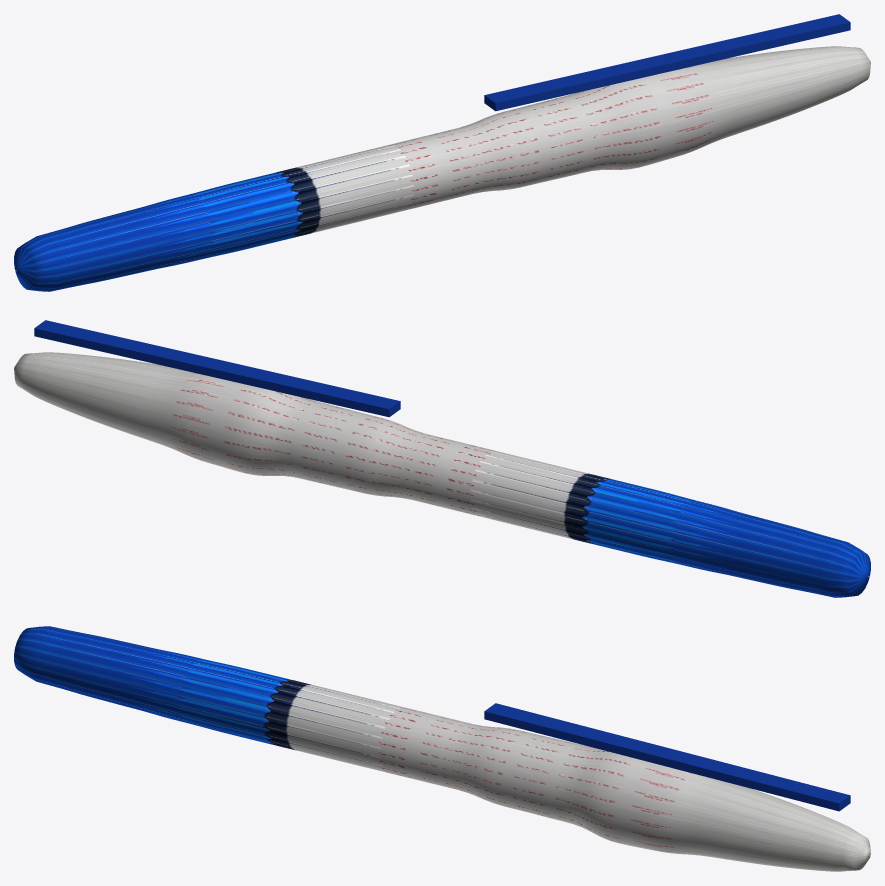
File: reynolds045.glb
3 renders of one model, top to bottom at view 1: azimuth 30°, elevation 25°; view 2: azimuth 150°, elevation 25°; view 3: azimuth 330°, elevation 25°, orthographic.
Visible parts, largest first — view 1: reynolds045_barrel, reynolds045_clip; view 2: reynolds045_barrel, reynolds045_clip; view 3: reynolds045_barrel, reynolds045_clip.
Part boxes in pixels (<box>): reynolds045_barrel: <box>14,46,870,291</box>; reynolds045_clip: <box>484,14,850,111</box>; reynolds045_barrel: <box>14,352,870,597</box>; reynolds045_clip: <box>34,320,400,417</box>; reynolds045_barrel: <box>14,626,870,871</box>; reynolds045_clip: <box>484,703,850,811</box>.
Size of the model in its own units: 0.145 by 0.0159 by 0.0138.
2 materials, 1 textured.
